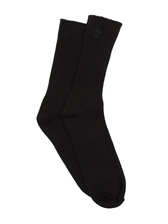sock: (35, 14, 130, 208)
